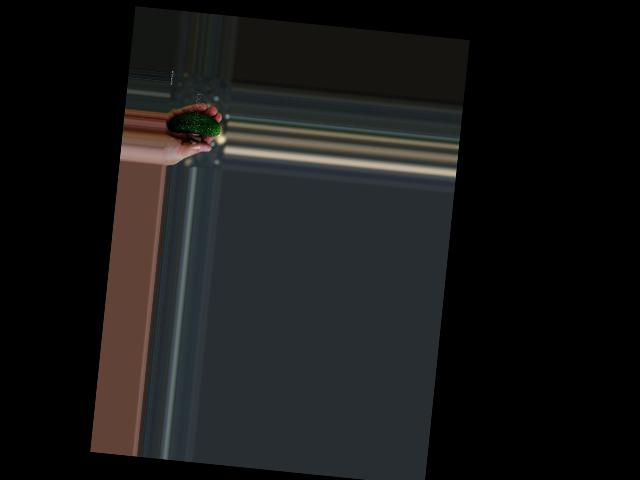cucumber: (167, 109, 221, 137)
